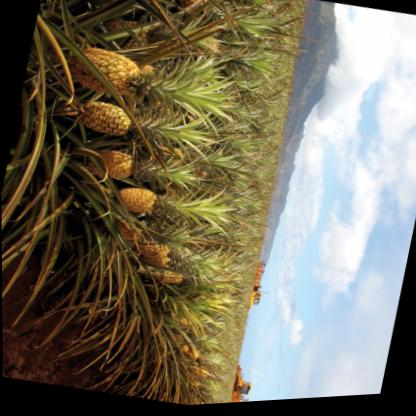pineapple: (66, 38, 200, 123), (71, 94, 201, 163), (110, 178, 205, 234), (88, 144, 180, 196)
